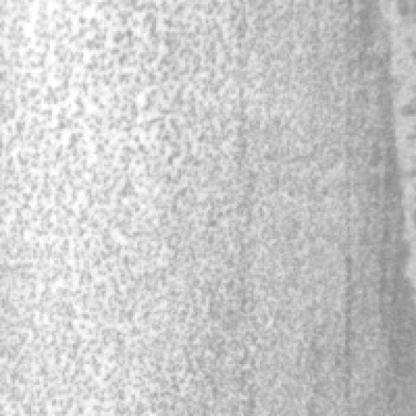pitted_surface: (5, 0, 400, 412)
